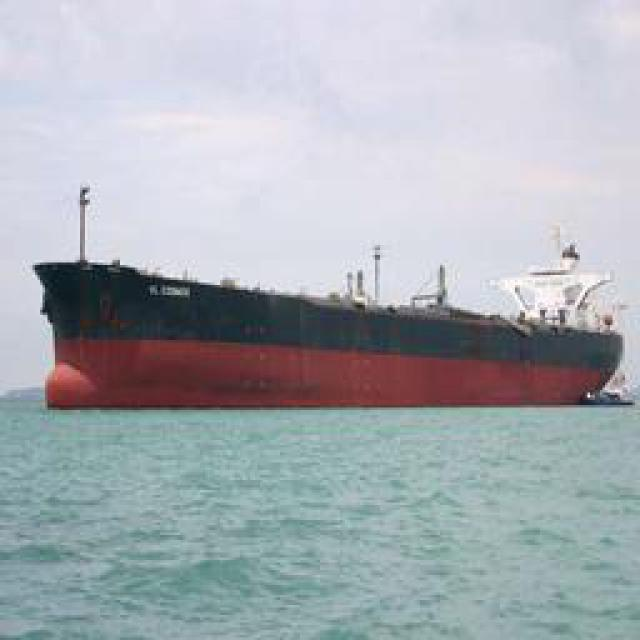Ship: (32, 253, 630, 418)
